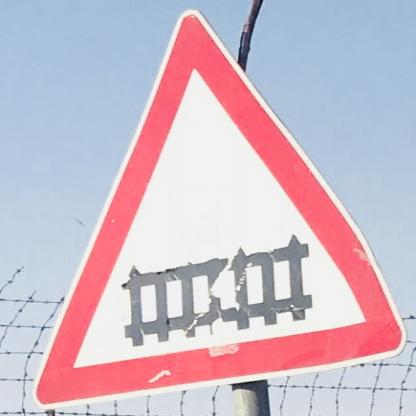Railway Crossing: (31, 9, 405, 408)
